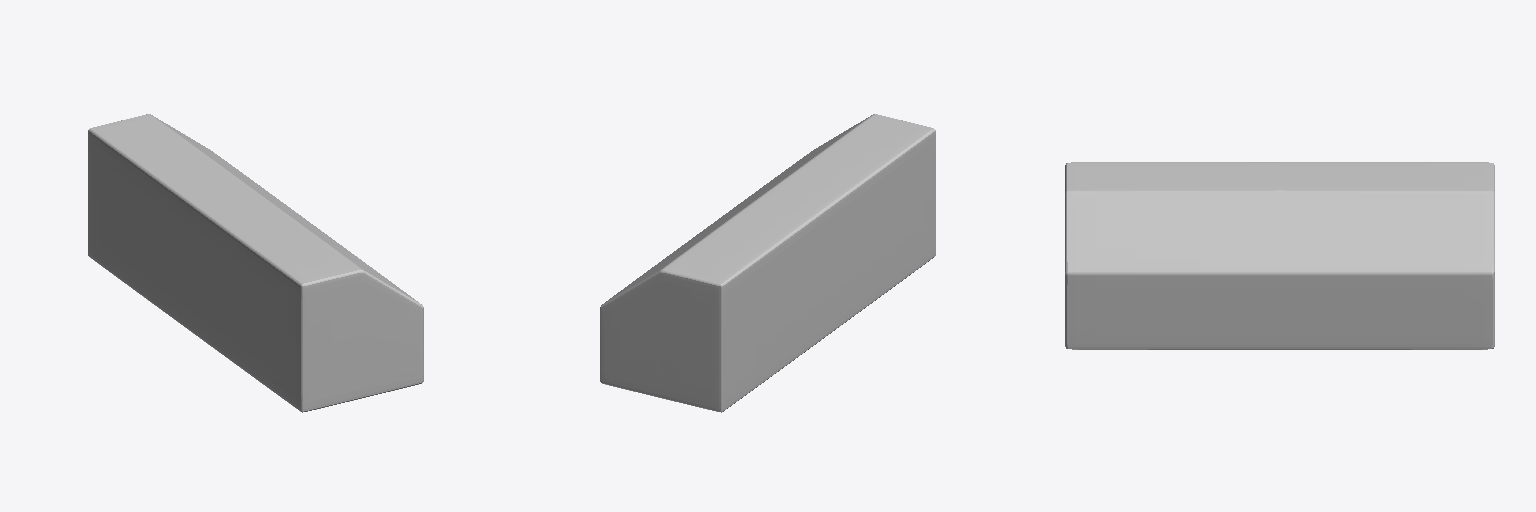
The model's file is Wall_HP.obj.
3 views of the same model, side by side, from view 1: azimuth 30°, elevation 25°; view 2: azimuth 150°, elevation 25°; view 3: azimuth 270°, elevation 25° (orthographic).
Parts seen in each view (by area): view 1: Wall; view 2: Wall; view 3: Wall.
Boxes of the visible parts, x1,y1,x2,y2 form: Wall: [88, 114, 423, 412]; Wall: [600, 114, 935, 412]; Wall: [1065, 162, 1494, 349].
Bounding box in the file's own units: 0.9995 × 0.9997 × 3.